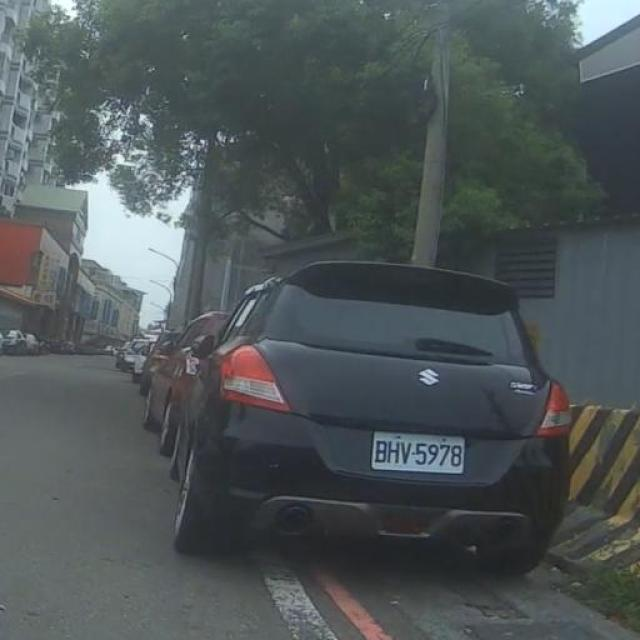Legalparking: (123, 248, 599, 614)
